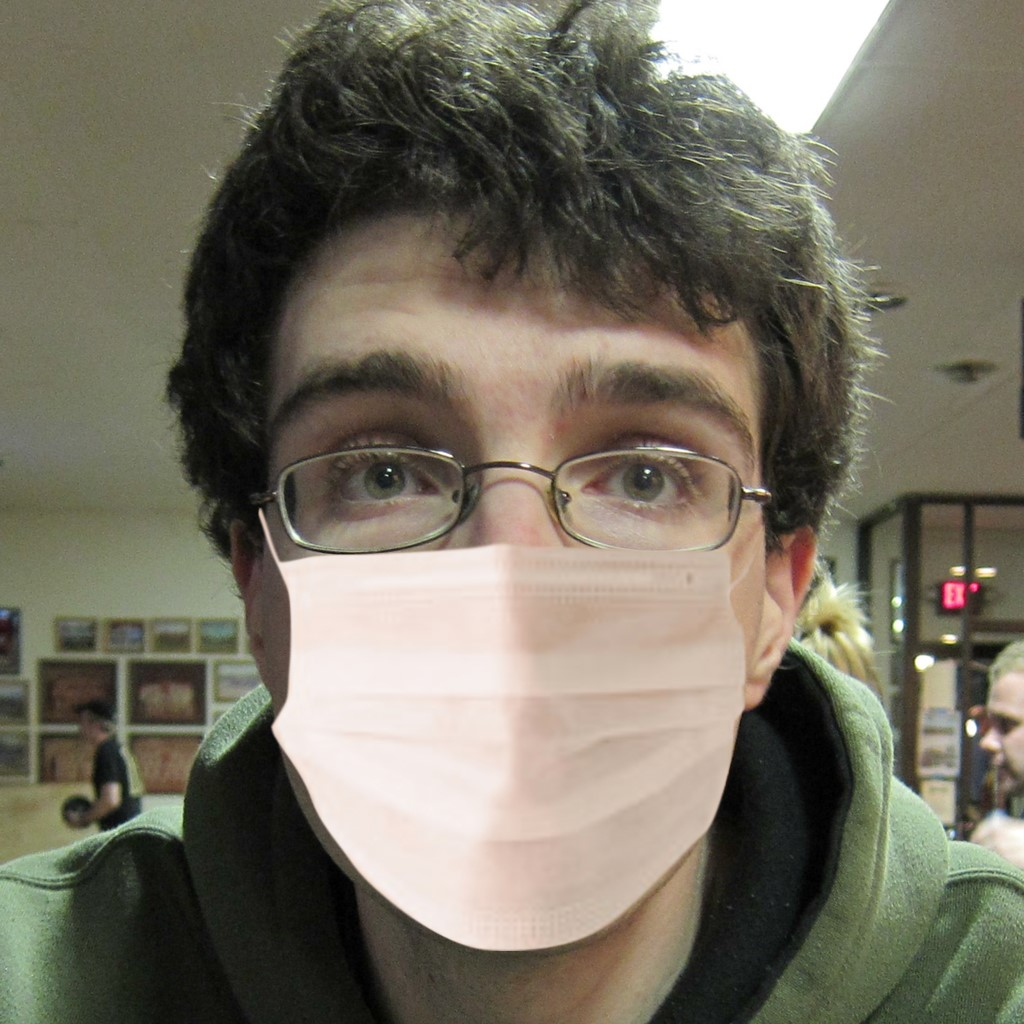con_mascara: (244, 133, 798, 962)
